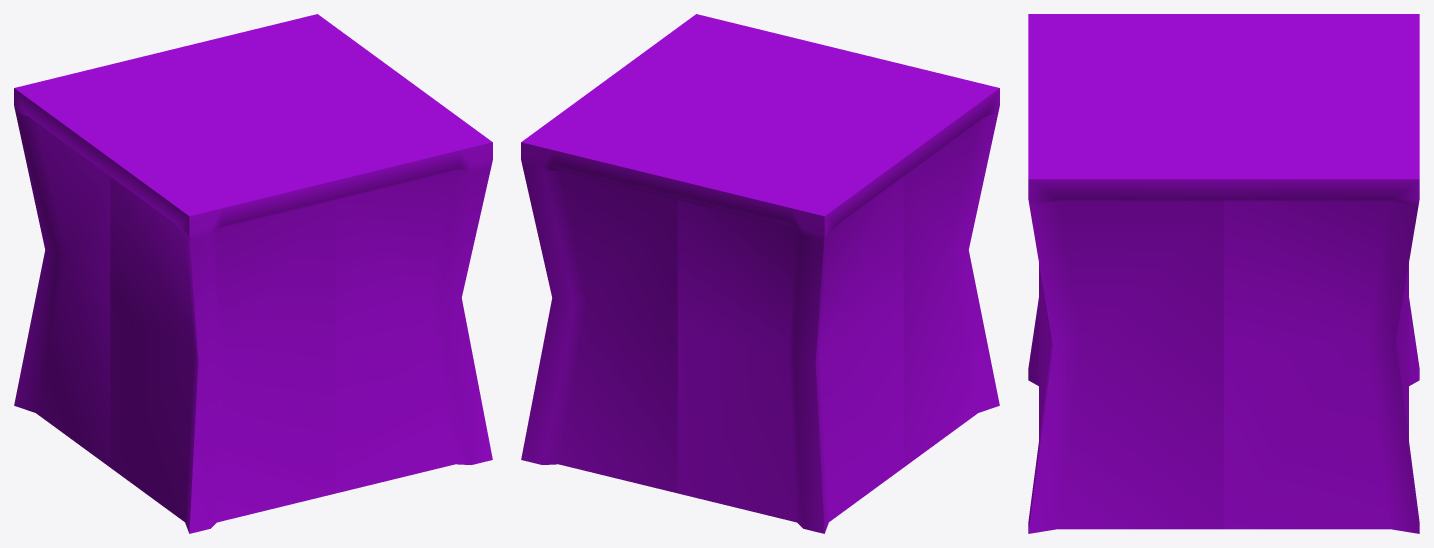
The model's file is sm_table4_low.fbx.
3 renders of one model, left to right at view 1: azimuth 30°, elevation 25°; view 2: azimuth 150°, elevation 25°; view 3: azimuth 270°, elevation 25°, orthographic. The views are drawn at different scales.
Visible parts, largest first — view 1: chair:pCube8; view 2: chair:pCube8; view 3: chair:pCube8.
Boxes of the visible parts, x1,y1,x2,y2 form: chair:pCube8: (14,14,492,533); chair:pCube8: (521,14,999,533); chair:pCube8: (1028,14,1419,533).
Bounding box in the file's own units: 100 × 100 × 100.
